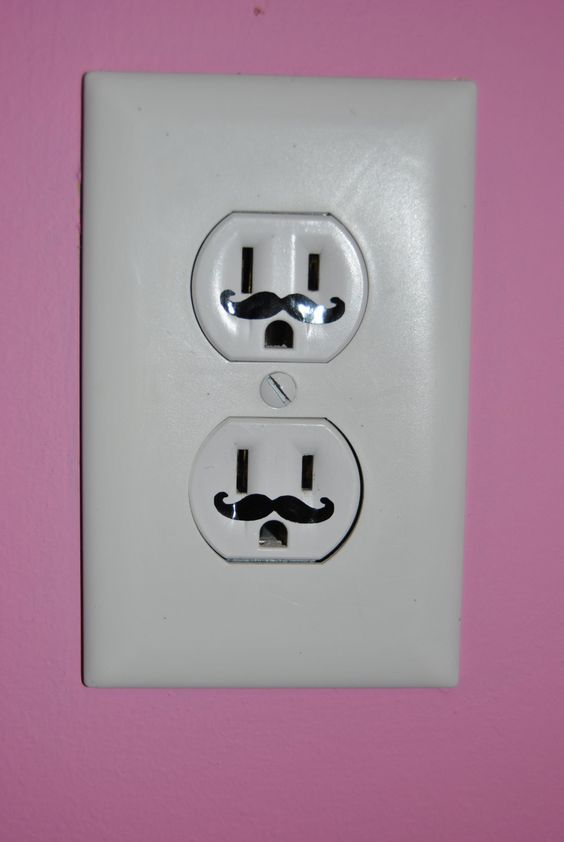outlet: (222, 438, 327, 552), (232, 238, 330, 352)
